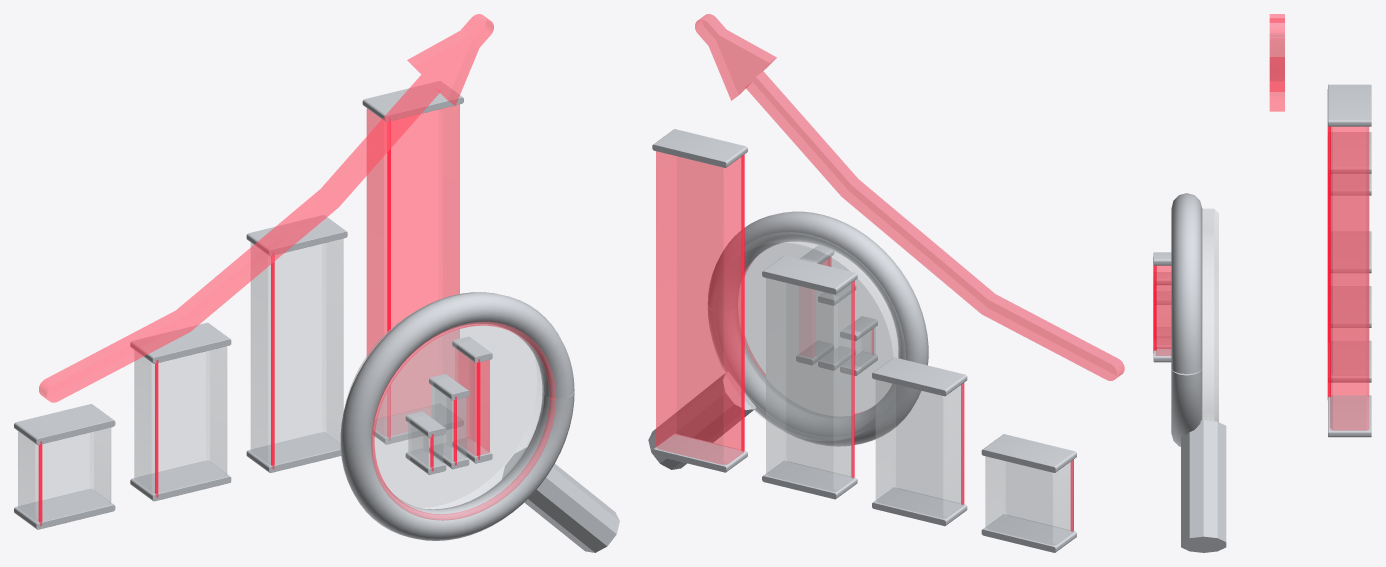
The model's file is 41-forecast.glb.
3 views of the same model, side by side, from view 1: azimuth 30°, elevation 25°; view 2: azimuth 150°, elevation 25°; view 3: azimuth 270°, elevation 25° (orthographic). The views are drawn at different scales.
Parts seen in each view (by area): view 1: BC clear optical glass, BC satin silver metal, BC ruby optical glass, BC neon red glass edge; view 2: BC clear optical glass, BC ruby optical glass, BC satin silver metal, BC neon red glass edge; view 3: BC satin silver metal, BC ruby optical glass, BC clear optical glass, BC neon red glass edge.
Part boxes in pixels (x1,y1,x2,y2): BC clear optical glass: (18,239,543,520); BC satin silver metal: (14,81,619,552); BC ruby optical glass: (39,14,555,520); BC neon red glass edge: (38,118,480,526); BC clear optical glass: (710,232,1073,544); BC ruby optical glass: (656,14,1124,464); BC satin silver metal: (648,129,1076,552); BC neon red glass edge: (741,154,1073,531); BC satin silver metal: (1153,84,1371,552); BC ruby optical glass: (1156,14,1369,430); BC clear optical glass: (1157,174,1368,421); BC neon red glass edge: (1153,89,1330,399).
Bounding box in the file's own units: 2.12 × 1.98 × 0.7762.
